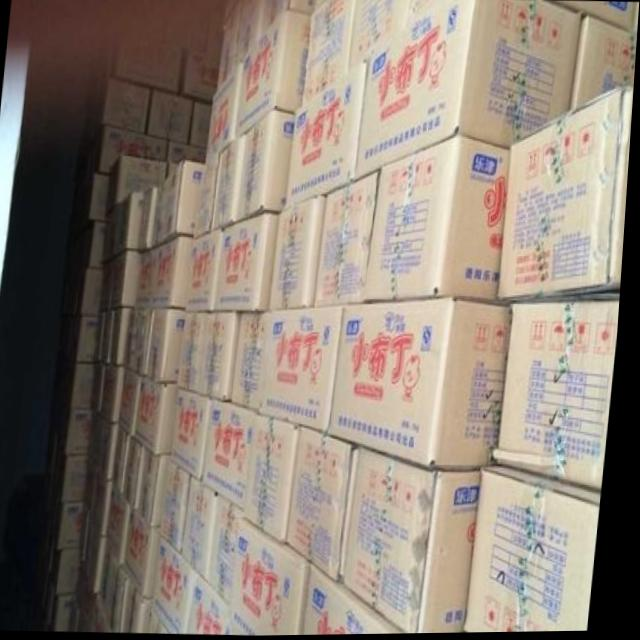box: (356, 0, 582, 182), (334, 298, 515, 472), (501, 89, 635, 303), (350, 450, 488, 635), (367, 134, 512, 305), (499, 301, 624, 494), (473, 465, 608, 634), (287, 50, 371, 209), (292, 427, 363, 585), (264, 306, 348, 438), (236, 9, 309, 138), (237, 518, 316, 636), (317, 169, 383, 307), (310, 562, 417, 636), (248, 414, 305, 546), (569, 16, 638, 115), (240, 110, 297, 222), (272, 195, 328, 308), (206, 397, 261, 511), (218, 214, 281, 312), (302, 0, 355, 105), (237, 0, 313, 68), (109, 540, 162, 633), (64, 546, 121, 632), (65, 500, 115, 595), (68, 449, 118, 540), (152, 161, 205, 245), (159, 538, 203, 634), (349, 0, 408, 69), (187, 475, 225, 582), (206, 59, 244, 164), (175, 388, 217, 482), (203, 313, 245, 404), (112, 39, 184, 92), (237, 310, 273, 414), (129, 506, 169, 598), (216, 498, 249, 608), (195, 570, 250, 636), (101, 124, 172, 172), (73, 409, 120, 480), (213, 133, 246, 233), (140, 378, 182, 456), (109, 156, 168, 210), (150, 307, 190, 384), (154, 236, 195, 309), (103, 192, 146, 261), (189, 230, 225, 312), (548, 1, 636, 32), (104, 75, 150, 134), (167, 461, 196, 552), (182, 311, 213, 392), (145, 445, 176, 526), (195, 151, 222, 241), (149, 90, 194, 143), (178, 46, 220, 100), (218, 0, 243, 89), (112, 486, 137, 563), (129, 306, 154, 377), (114, 250, 143, 309), (129, 436, 152, 510), (62, 592, 103, 632), (124, 366, 147, 435), (142, 184, 163, 255), (116, 426, 138, 493), (105, 364, 129, 424), (114, 305, 137, 366), (76, 360, 102, 410), (139, 245, 158, 309), (190, 103, 213, 149), (82, 315, 104, 362), (85, 268, 104, 316), (92, 172, 111, 219), (103, 256, 118, 309), (407, 0, 438, 24), (93, 217, 107, 268), (157, 611, 176, 634), (632, 3, 639, 36), (313, 0, 324, 10)
